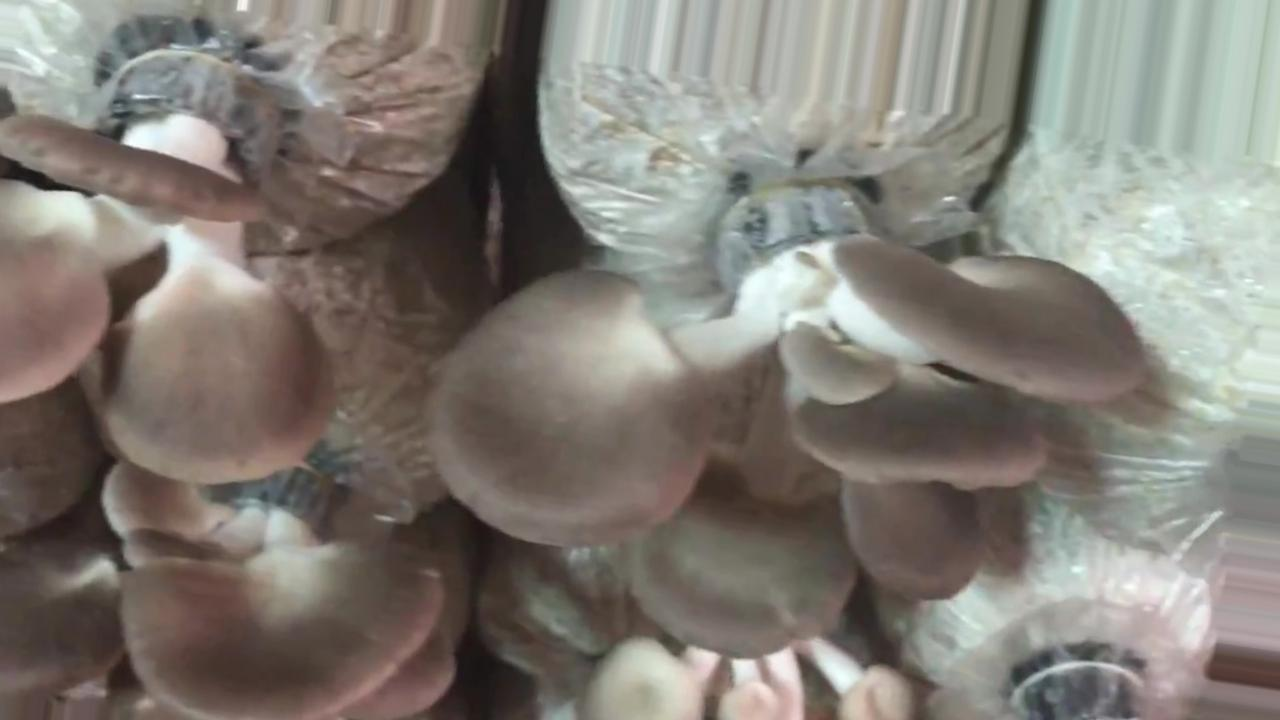nam: (439, 182, 1146, 657), (1, 53, 332, 484), (1, 464, 445, 720), (579, 634, 913, 720)
